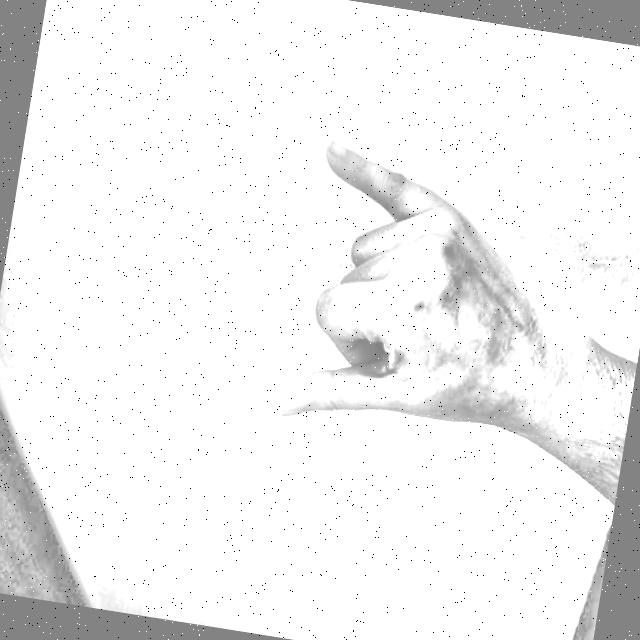Oi: (231, 101, 582, 503)
